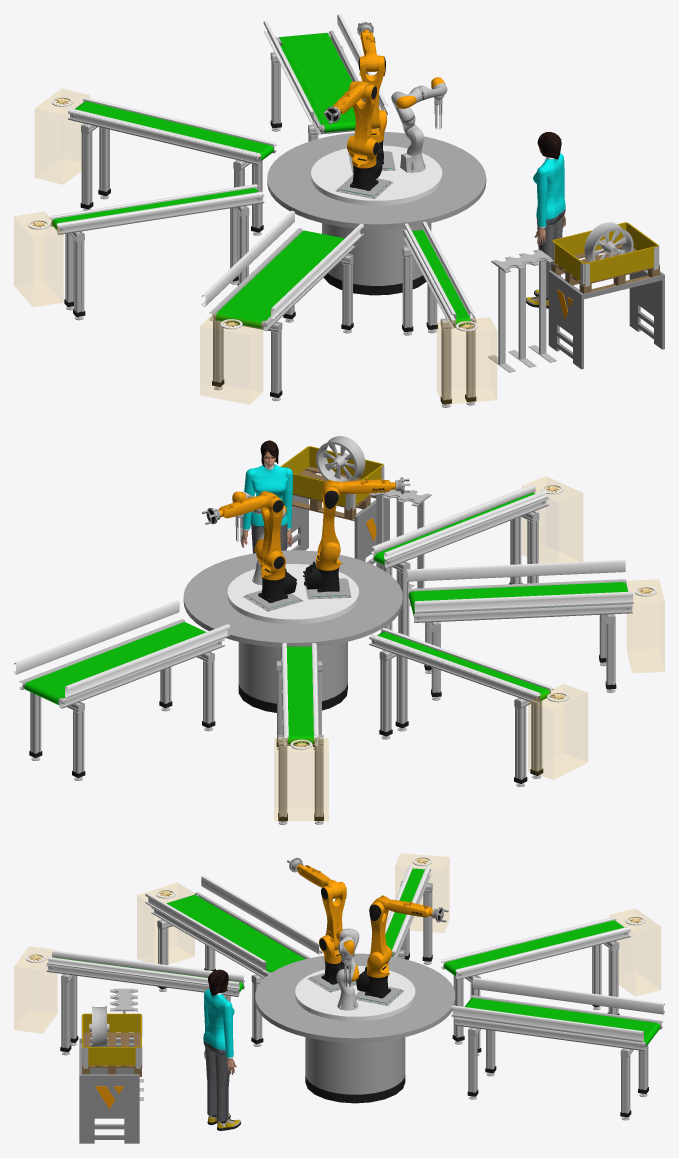
3 views of the same model, one above another, from view 1: azimuth 30°, elevation 25°; view 2: azimuth 150°, elevation 25°; view 3: azimuth 270°, elevation 25° (orthographic). The views are drawn at different scales.
Parts seen in each view (by area): view 1: Mesh [0BGg], Mesh [0CGg], Mesh [082g], Mesh [03Cg], Mesh [05Ug], Mesh [07qg], Mesh [0BSg], Mesh [03eg], Mesh [030g], Mesh [0BEg], Mesh [087g], Mesh [04Gg] (+35 smaller); view 2: Mesh [0BGg], Mesh [0BSg], Mesh [030g], Mesh [07qg], Mesh [0BEg], Mesh [03Cg], Mesh [03eg], Mesh [0CGg], Mesh [05Vg], Mesh [05Wg], Mesh [04Gg], Mesh [05Ug] (+39 smaller); view 3: Mesh [0BGg], Mesh [0BEg], Mesh [082g], Mesh [07qg], Mesh [03Cg], Mesh [030g], Mesh [05Ug], Mesh [0CGg], Mesh [03gg], Mesh [03fg], Mesh [03eg], Mesh [04Gg] (+35 smaller).
Boxes of the visible parts, x1=… form: Mesh [0BGg]: x1=267, y1=132, x2=486, y2=229; Mesh [0CGg]: x1=200, y1=314, x2=262, y2=403; Mesh [082g]: x1=548, y1=270, x2=664, y2=369; Mesh [03Cg]: x1=437, y1=317, x2=496, y2=404; Mesh [05Ug]: x1=218, y1=231, x2=344, y2=320; Mesh [07qg]: x1=311, y1=145, x2=442, y2=205; Mesh [0BSg]: x1=14, y1=212, x2=62, y2=306; Mesh [03eg]: x1=279, y1=33, x2=355, y2=124; Mesh [030g]: x1=35, y1=89, x2=89, y2=183; Mesh [0BEg]: x1=322, y1=223, x2=431, y2=285; Mesh [087g]: x1=487, y1=249, x2=556, y2=372; Mesh [04Gg]: x1=76, y1=101, x2=269, y2=152; Mesh [0BGg]: x1=183, y1=550, x2=402, y2=647; Mesh [0BSg]: x1=528, y1=684, x2=587, y2=779; Mesh [030g]: x1=274, y1=738, x2=328, y2=820; Mesh [07qg]: x1=227, y1=564, x2=358, y2=624; Mesh [0BEg]: x1=238, y1=642, x2=347, y2=703; Mesh [03Cg]: x1=522, y1=477, x2=582, y2=562; Mesh [03eg]: x1=28, y1=622, x2=205, y2=697; Mesh [0CGg]: x1=627, y1=580, x2=664, y2=672; Mesh [05Vg]: x1=414, y1=591, x2=633, y2=613; Mesh [05Wg]: x1=407, y1=559, x2=625, y2=581; Mesh [04Gg]: x1=286, y1=647, x2=313, y2=735; Mesh [05Ug]: x1=413, y1=582, x2=624, y2=601; Mesh [0BGg]: x1=255, y1=953, x2=455, y2=1042; Mesh [0BEg]: x1=305, y1=1037, x2=405, y2=1094; Mesh [082g]: x1=79, y1=1038, x2=139, y2=1143; Mesh [07qg]: x1=295, y1=966, x2=415, y2=1021; Mesh [03Cg]: x1=14, y1=947, x2=56, y2=1032; Mesh [030g]: x1=610, y1=909, x2=660, y2=995; Mesh [05Ug]: x1=167, y1=895, x2=305, y2=971; Mesh [0CGg]: x1=137, y1=883, x2=194, y2=963; Mesh [03gg]: x1=451, y1=1005, x2=643, y2=1042; Mesh [03fg]: x1=472, y1=977, x2=664, y2=1014; Mesh [03eg]: x1=467, y1=998, x2=656, y2=1039; Mesh [04Gg]: x1=447, y1=920, x2=622, y2=968.
Size of the model in its own units: 4.82 by 2.11 by 6.49.
Materials: 34 (6 with a texture image).
